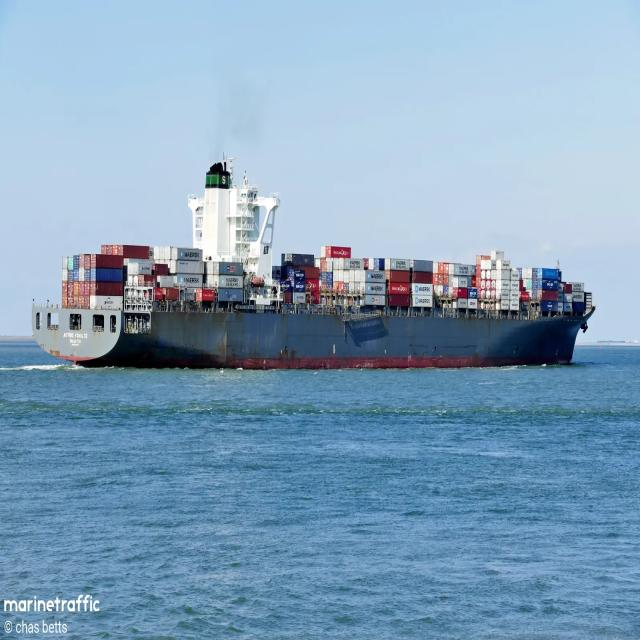Cargo: (31, 158, 594, 369)
